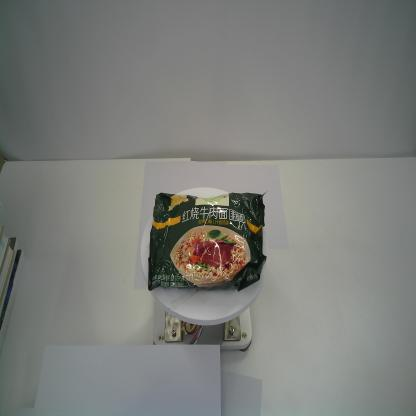Instant Noodles: (147, 191, 267, 293)
